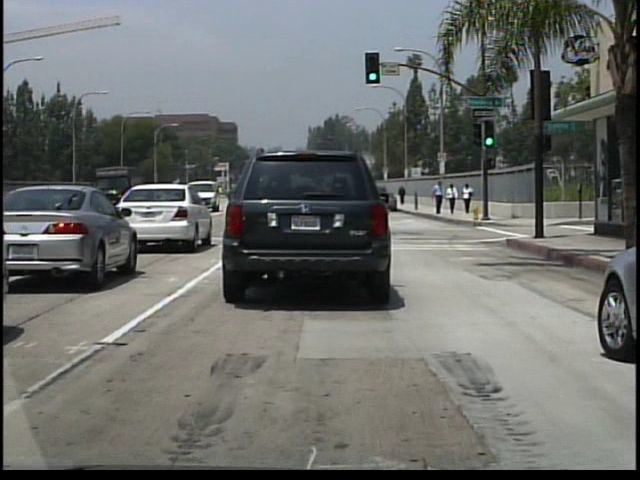person: (435, 178, 449, 217), (447, 182, 460, 216), (463, 182, 476, 215), (398, 184, 408, 206)
